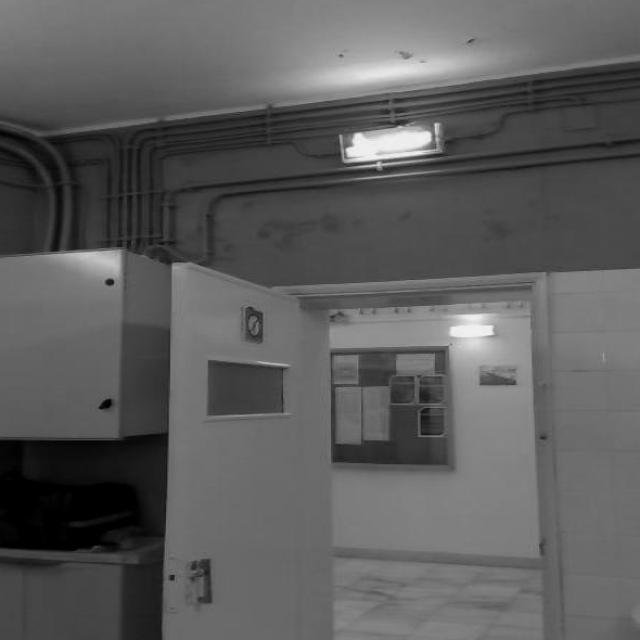Door: (160, 260, 329, 638)
